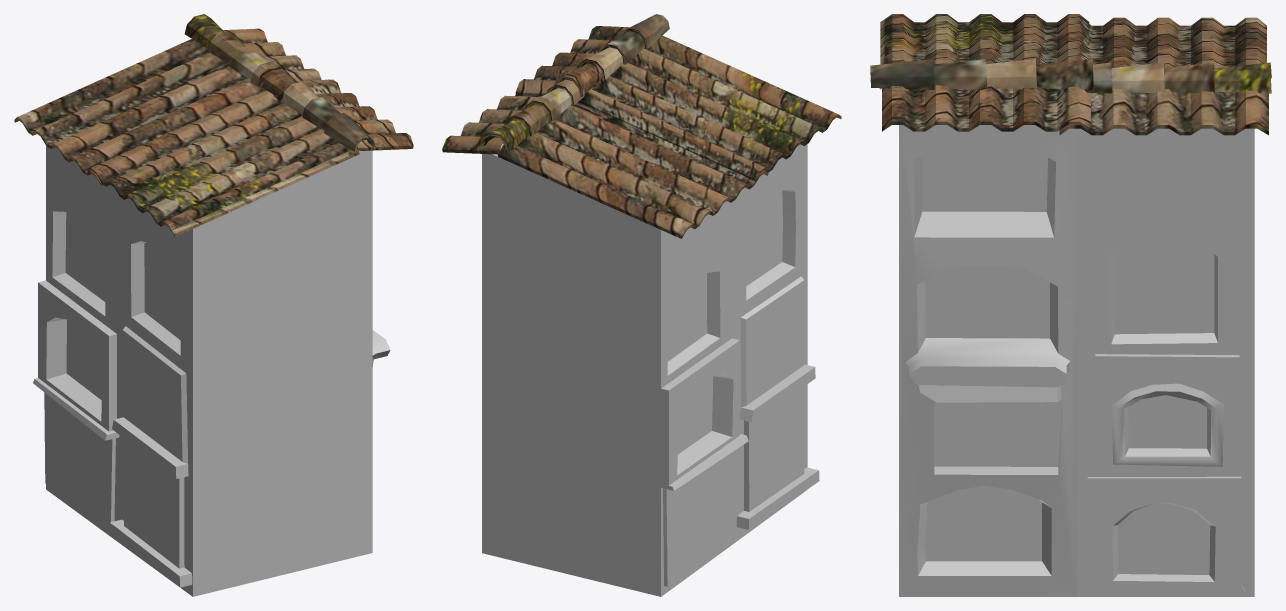
File: nicho_doble.fbx
3 views of the same model, side by side, from view 1: azimuth 30°, elevation 25°; view 2: azimuth 150°, elevation 25°; view 3: azimuth 270°, elevation 25° (orthographic). The views are drawn at different scales.
Visible parts, largest first — view 1: Cube.042, Cube.044; view 2: Cube.042, Cube.044; view 3: Cube.042, Cube.044.
Boxes of the visible parts, left/top/right/bottom form: Cube.042: left=33, top=145, right=390, bottom=596; Cube.044: left=14, top=14, right=413, bottom=236; Cube.042: left=482, top=144, right=819, bottom=596; Cube.044: left=442, top=14, right=841, bottom=238; Cube.042: left=899, top=125, right=1254, bottom=596; Cube.044: left=870, top=14, right=1271, bottom=135.
Bounding box in the file's own units: 380 × 650 × 451.
